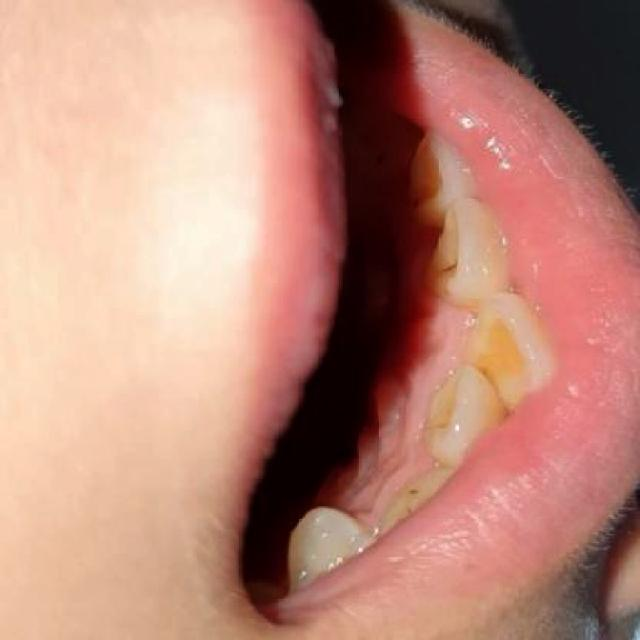Plaque: (395, 482, 428, 520), (437, 256, 466, 282)
